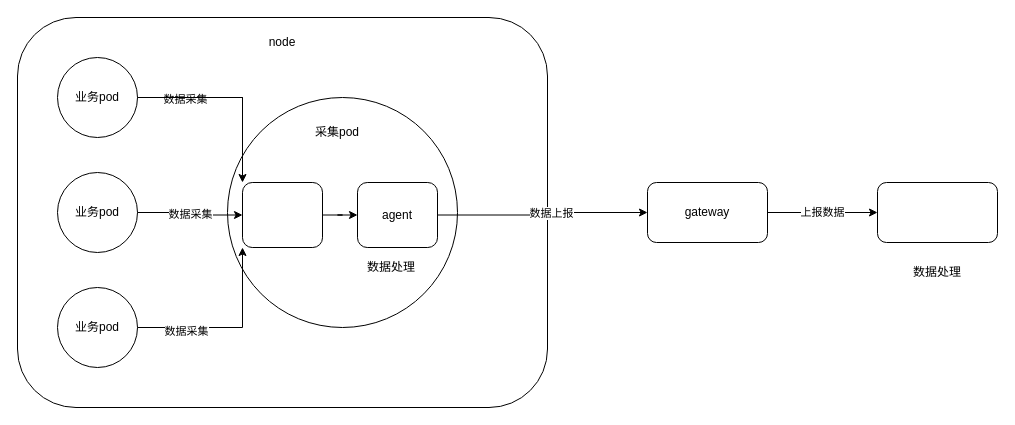
This 1015x425 diagram has some shape labels left out. The box of each missing label's shape, as (x1, y1, x2, y2) in pixels:
cadvisor: (242, 182, 322, 248)
polaris-graph: (876, 182, 998, 242)
